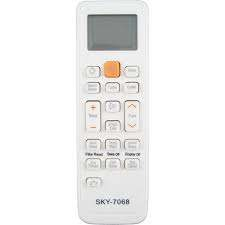remote control: (74, 0, 155, 225)
